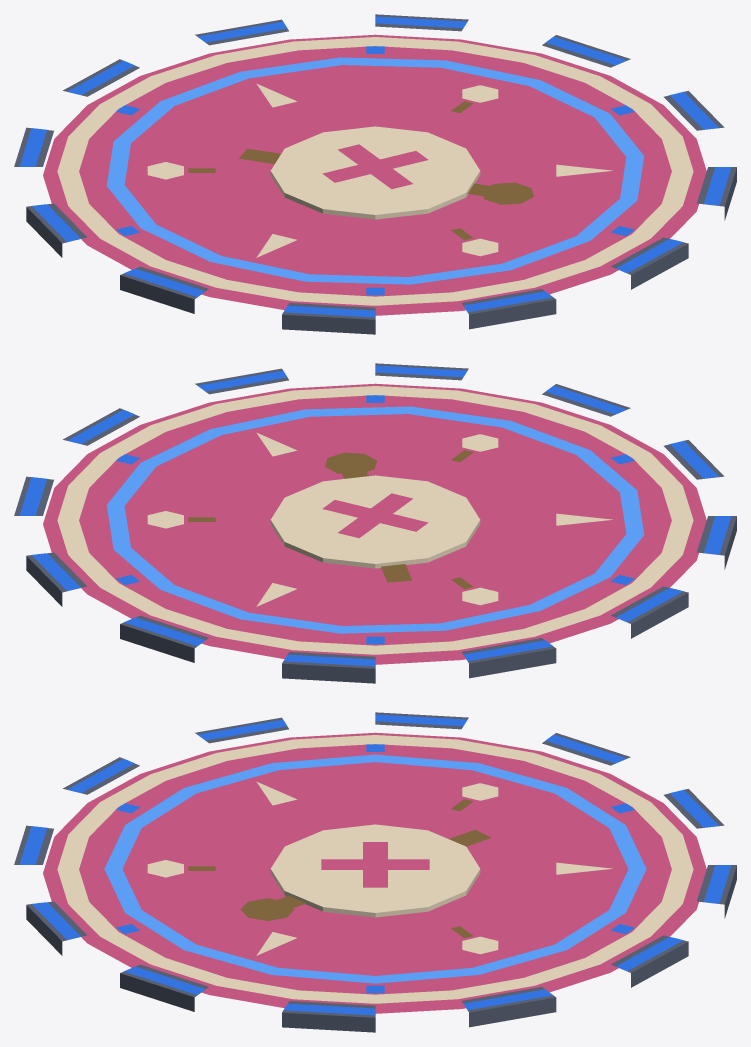
File: cleric_super_rare_area.glb
3 views of the same model, one above another, from view 1: azimuth 30°, elevation 25°; view 2: azimuth 150°, elevation 25°; view 3: azimuth 270°, elevation 25° (orthographic).
Visible parts, largest first — view 1: cleric_super_rare_area; view 2: cleric_super_rare_area; view 3: cleric_super_rare_area.
Part boxes in pixels (x1,y1,x2,y2): cleric_super_rare_area: (14, 14, 736, 334); cleric_super_rare_area: (14, 363, 736, 683); cleric_super_rare_area: (14, 712, 736, 1032).
Bounding box in the file's own units: 2 × 0.046 × 2.
2 materials, 2 textured.
